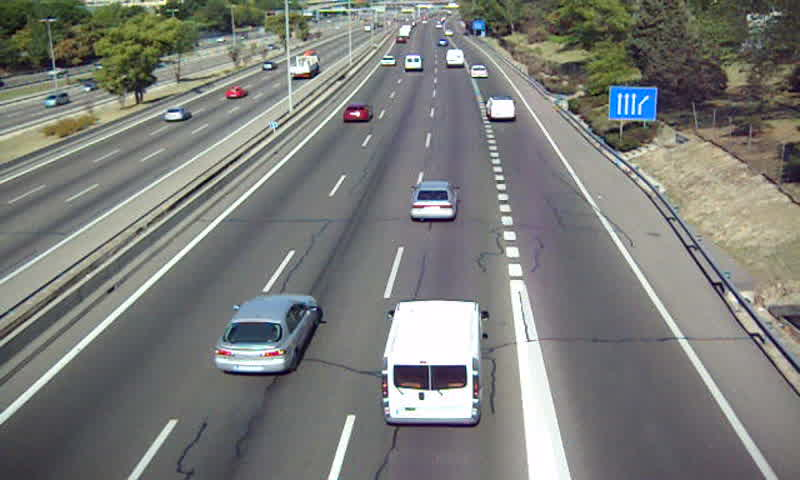car: (213, 293, 319, 376), (411, 181, 455, 221), (342, 104, 373, 122), (470, 64, 490, 79), (379, 54, 396, 66)
van: (382, 301, 484, 427), (485, 96, 516, 121), (403, 53, 422, 71), (445, 49, 464, 67)
